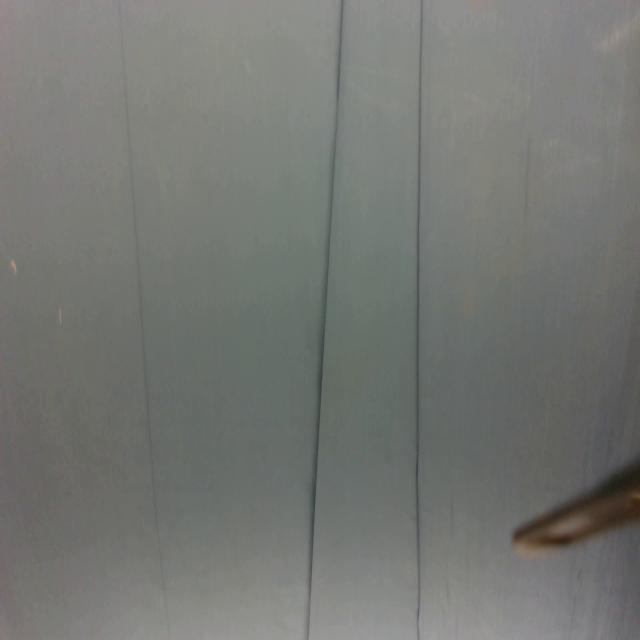crease: (118, 3, 171, 640), (306, 0, 345, 638), (412, 1, 426, 640)
hole: (9, 257, 18, 277), (57, 304, 63, 328)
